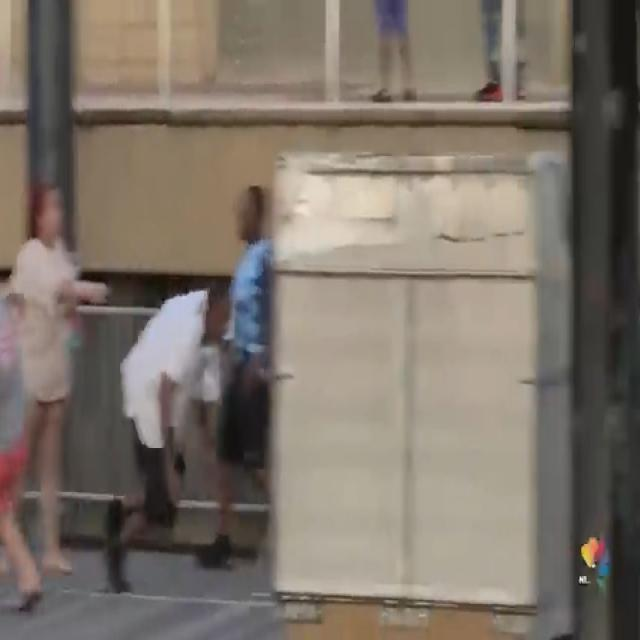fight: (103, 271, 235, 591)
non-fight: (0, 179, 101, 616)
